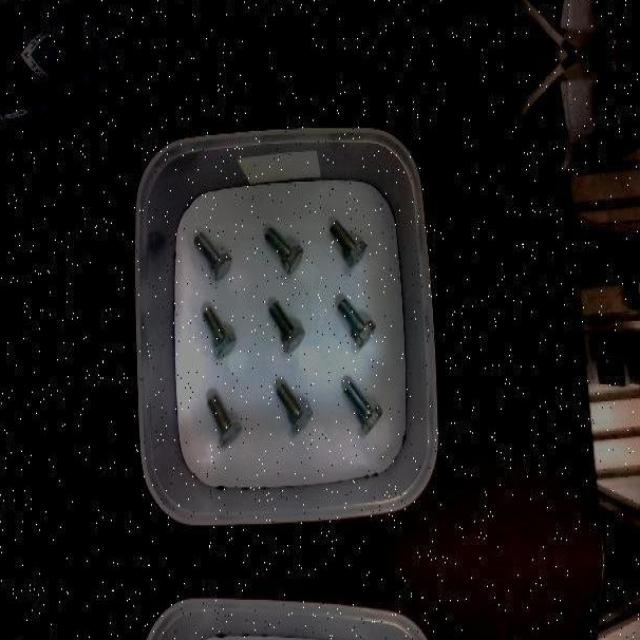screw: (344, 380, 384, 434), (276, 382, 314, 433), (338, 298, 376, 347), (195, 230, 232, 280), (270, 302, 306, 353), (207, 394, 242, 446), (204, 306, 238, 359), (264, 226, 303, 272), (329, 221, 366, 267)
